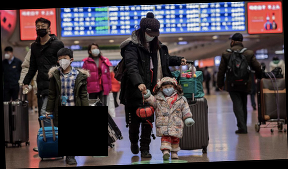with_mask: (58, 55, 72, 70), (35, 23, 49, 37), (163, 83, 175, 96), (145, 30, 156, 43), (91, 46, 100, 57), (4, 50, 13, 60)
